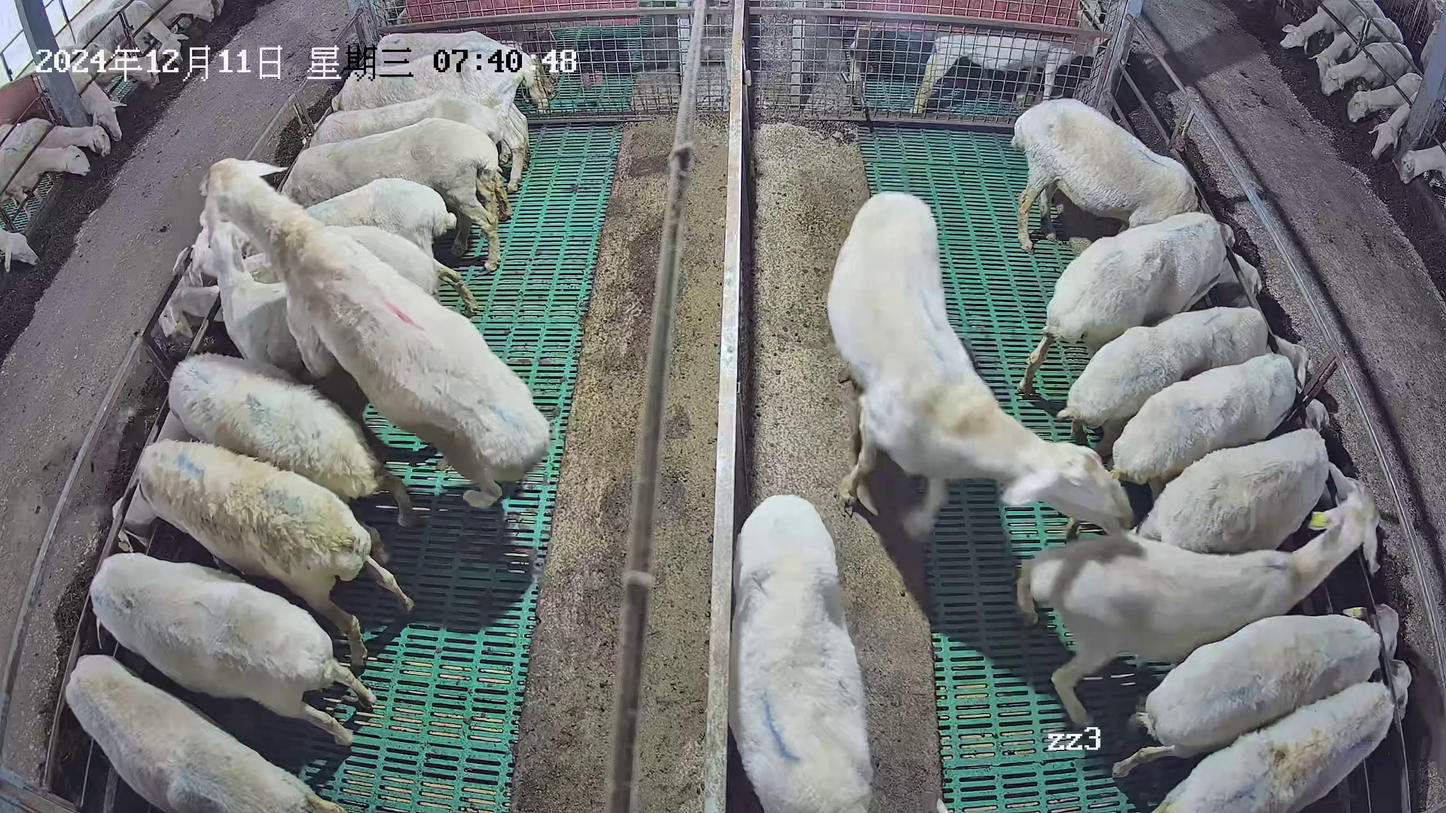Smounting: (189, 156, 552, 530)
mounted: (192, 203, 439, 527)
